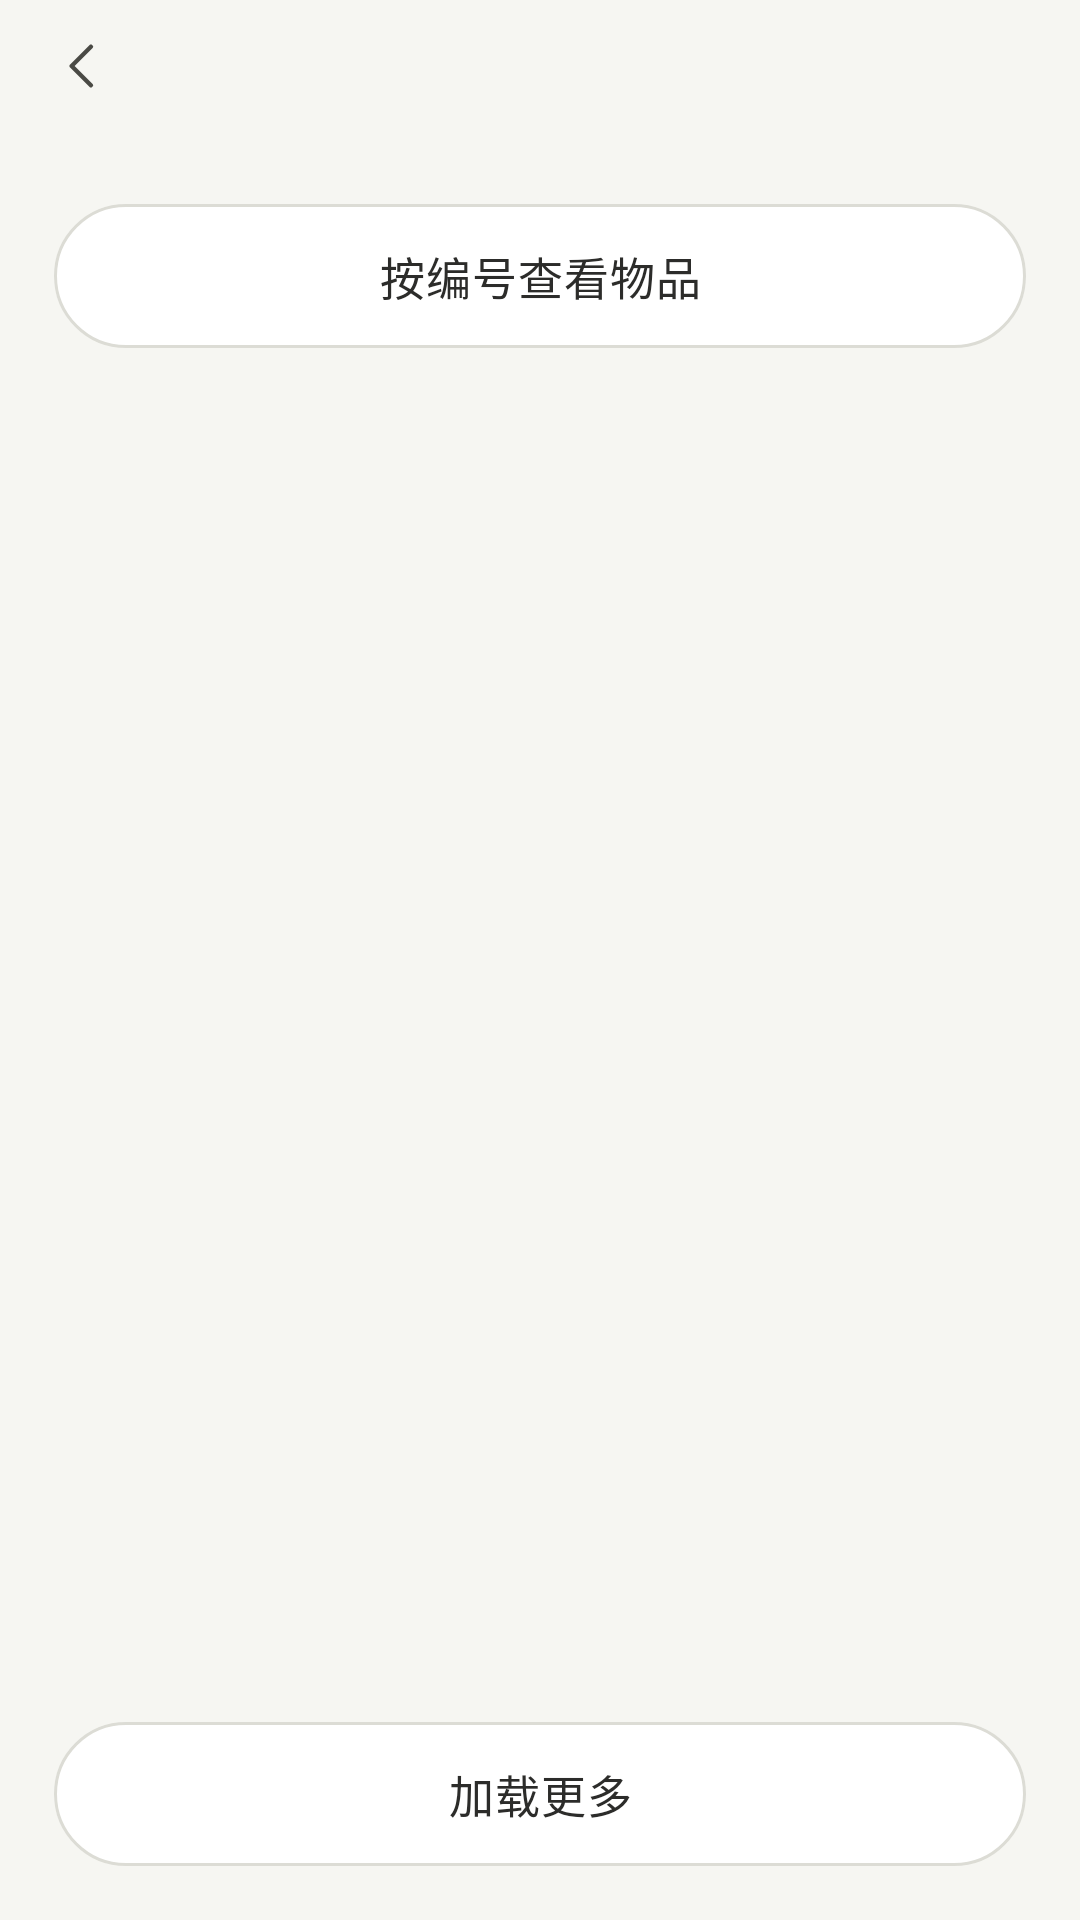

Icon bounding boxes for this 1080px x 1920px phone screenshot, format rect(x1, y1, x2, y2):
返回: rect(69, 44, 93, 88)
